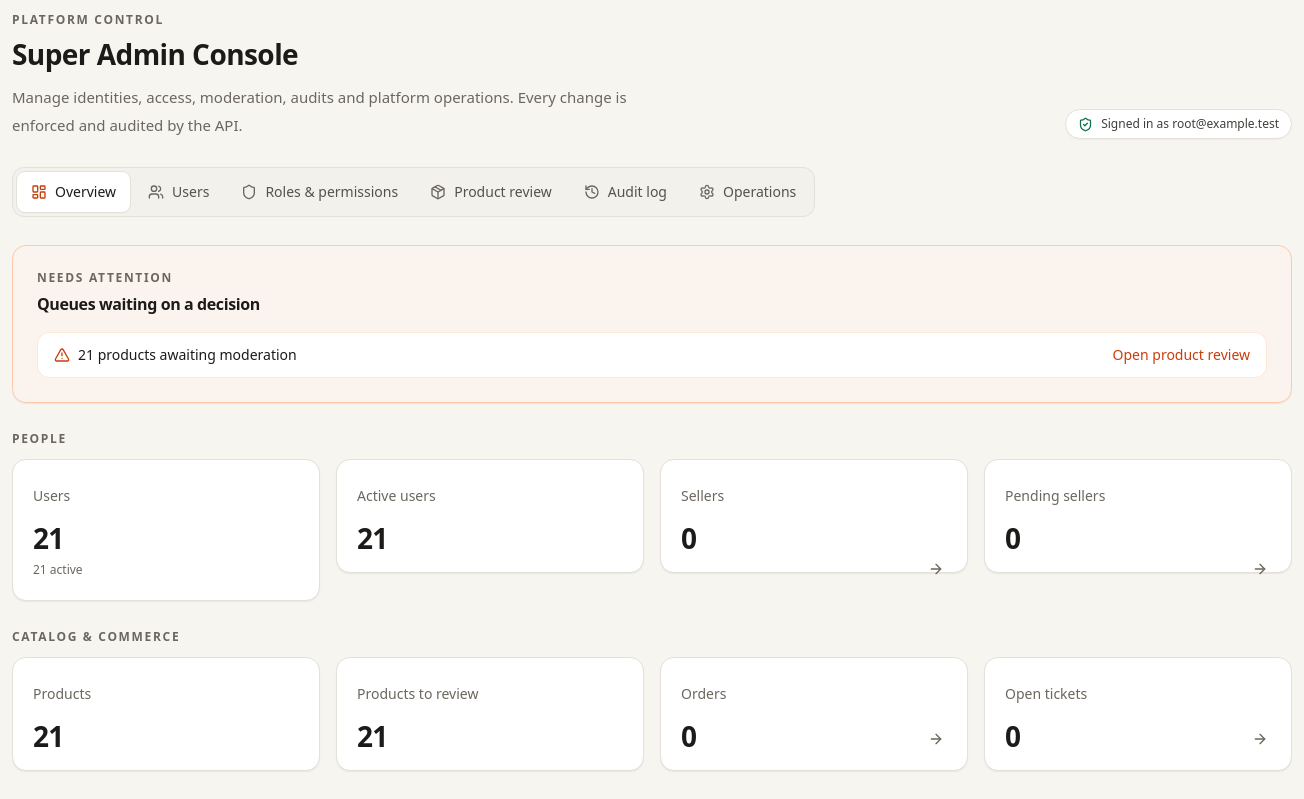
Test: super-admin product collection › refreshes session status when an administrator repeats the same user search
Step 1. Click the button "Users" → (179, 192), box [134,172,223,212]
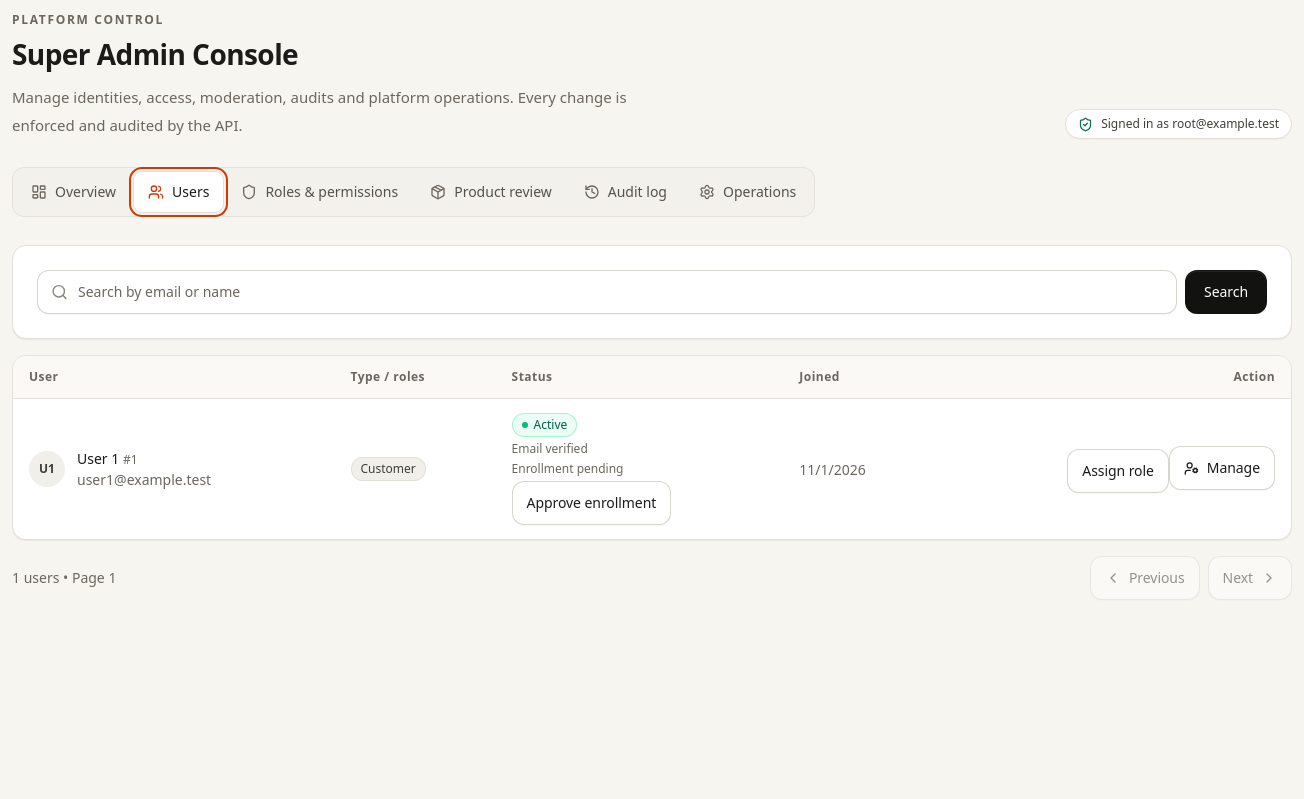
Now the text "Enrollment pending" is shown, box [512,461,624,477]
Step 2. Click the button "Search" → (1226, 292), box [1185,270,1267,314]
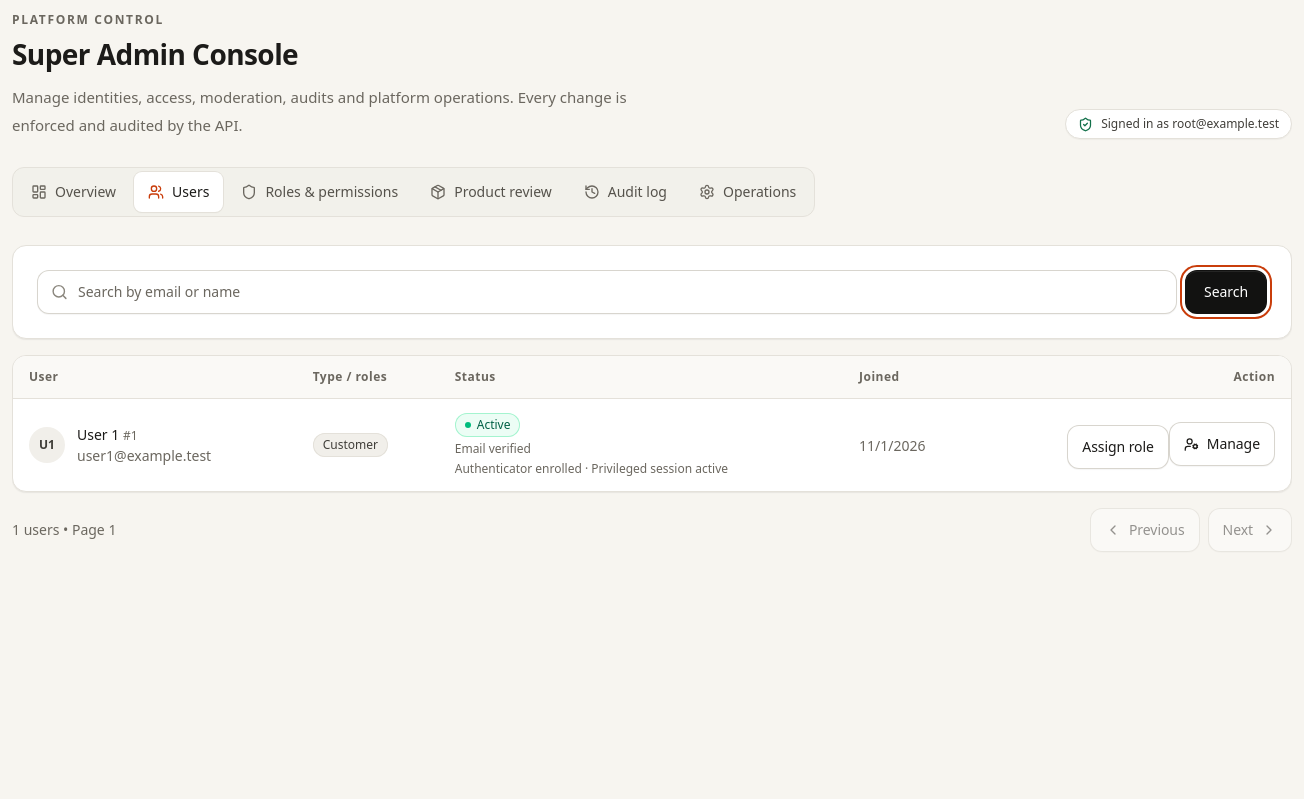
Now the text "Authenticator enrolled · Privileged session active" is shown, box [455,461,728,477]
Step 3. Click the button "Search" → (1226, 292), box [1185,270,1267,314]
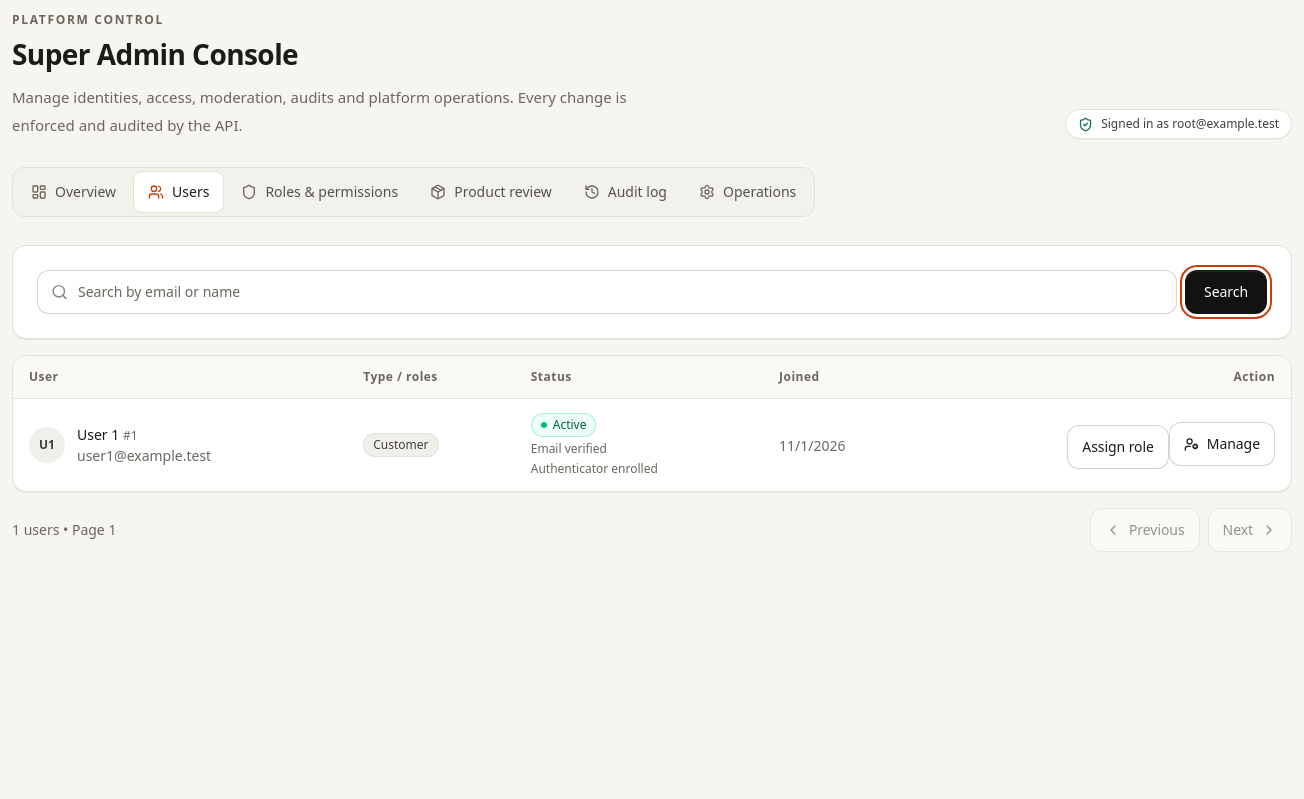
Now the text "Authenticator enrolled" is shown, box [531,461,658,477]
Now the text "session active" is gone
